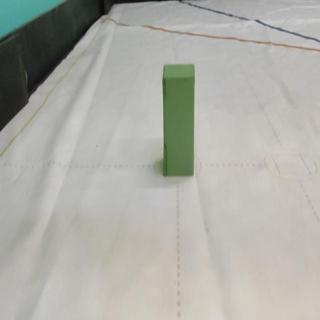greenbox: (161, 63, 197, 176)
